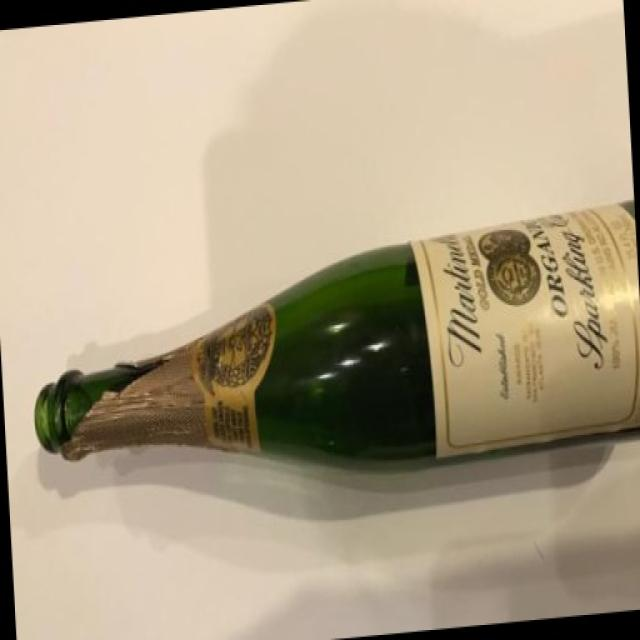vidrio: (22, 97, 640, 543)
